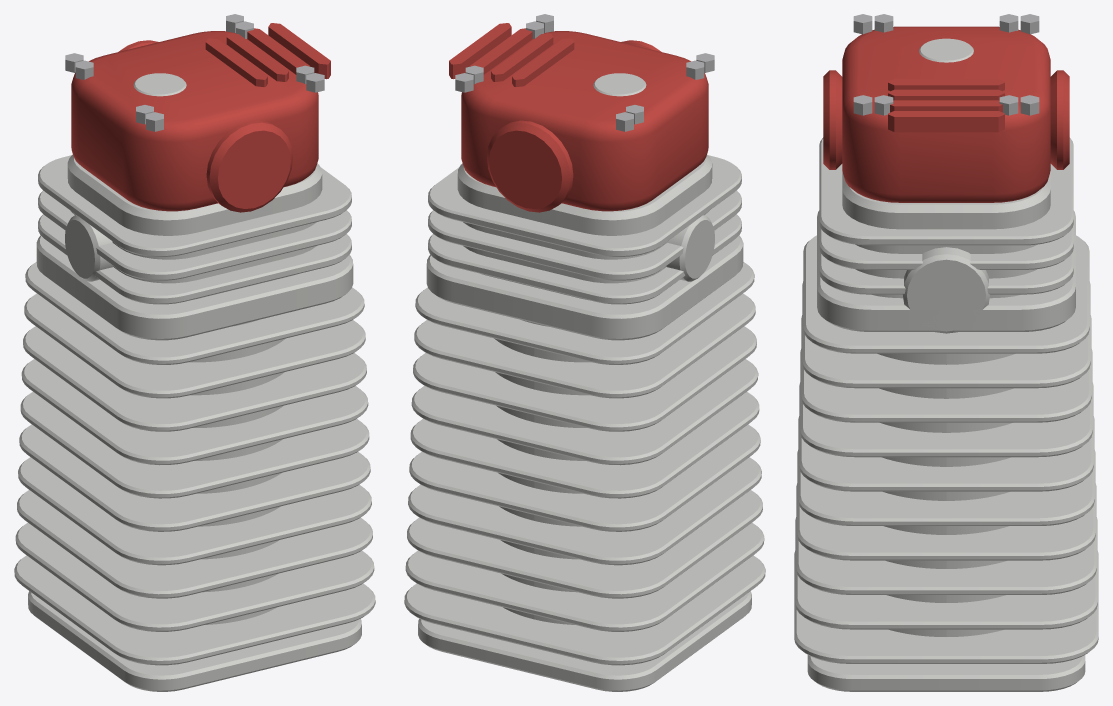
The model's file is hot_cam_2.glb.
3 views of the same model, side by side, from view 1: azimuth 30°, elevation 25°; view 2: azimuth 150°, elevation 25°; view 3: azimuth 270°, elevation 25° (orthographic). The views are drawn at different scales.
Parts seen in each view (by area): view 1: hot_cam_2; view 2: hot_cam_2; view 3: hot_cam_2.
Boxes of the visible parts, x1,y1,x2,y2 form: hot_cam_2: [14, 14, 375, 691]; hot_cam_2: [404, 14, 765, 691]; hot_cam_2: [794, 14, 1098, 691].
Bounding box in the file's own units: 0.146 × 0.3043 × 0.146.
